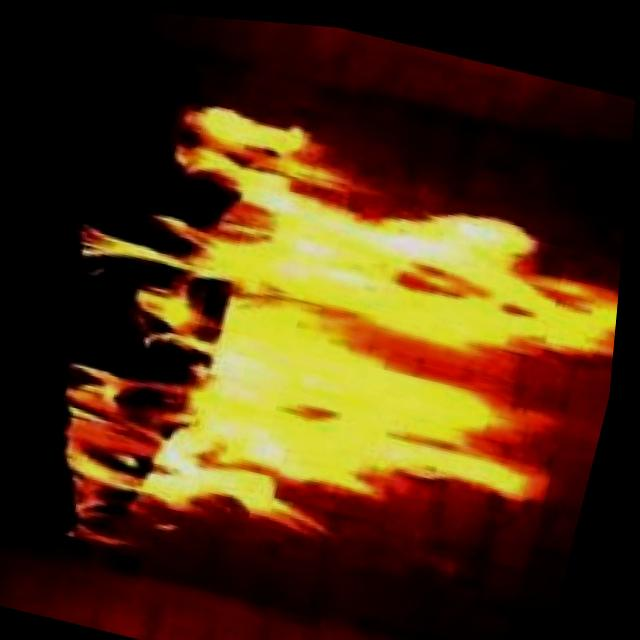Smoke: (0, 53, 636, 640)
